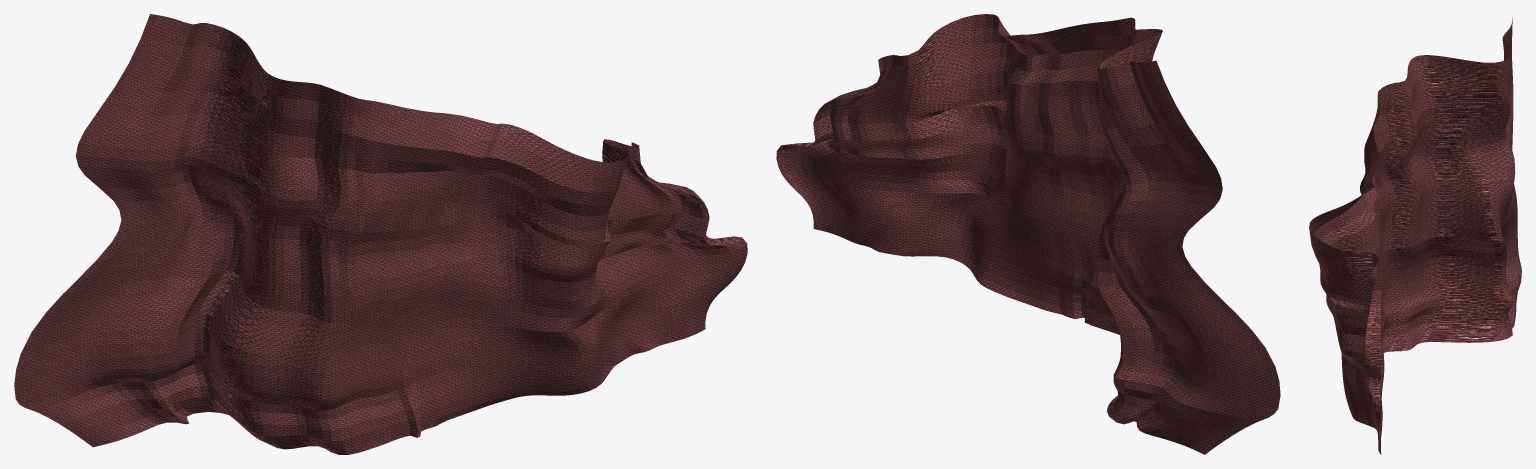
Rendered from cobija.dae.
The picture shows the model from 3 angles, left to right: view 1: azimuth 30°, elevation 25°; view 2: azimuth 150°, elevation 25°; view 3: azimuth 270°, elevation 25°; orthographic projection. The views are drawn at different scales.
Visible parts, largest first — view 1: node; view 2: node; view 3: node.
Boxes of the visible parts, x1=… form: node: x1=14, y1=14, x2=747, y2=454; node: x1=776, y1=14, x2=1280, y2=454; node: x1=1309, y1=18, x2=1521, y2=454.
Size of the model in its own units: 1643 by 1025 by 631.
Materials: 1 (1 with a texture image).
